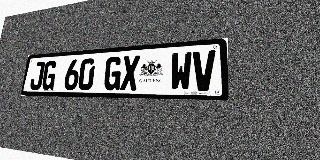0: (77, 58, 96, 90)
6: (63, 59, 81, 90)
G: (103, 56, 122, 90), (41, 61, 58, 90)
J: (29, 61, 45, 90)
V: (192, 50, 215, 91)
W: (170, 52, 192, 91)
X: (120, 55, 140, 90)
